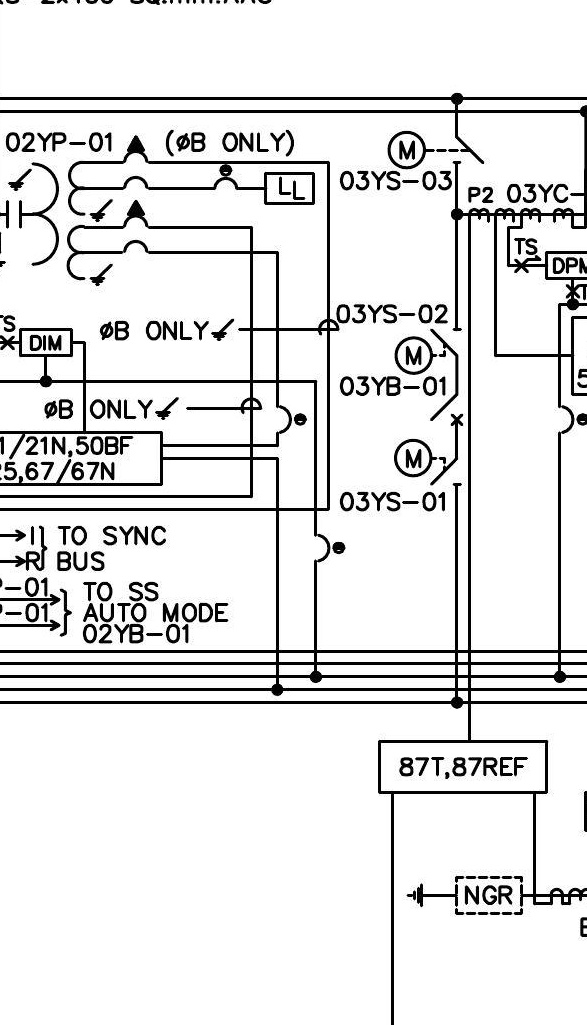115_1way_ds_w_motor: (386, 129, 485, 170), (393, 327, 462, 376), (393, 438, 462, 486)
115_breaker: (429, 393, 464, 426)
115_cvt_1p: (5, 134, 151, 287)
DIM: (19, 328, 73, 357)
LL: (264, 172, 315, 205)
NGR_future: (406, 876, 523, 915)
